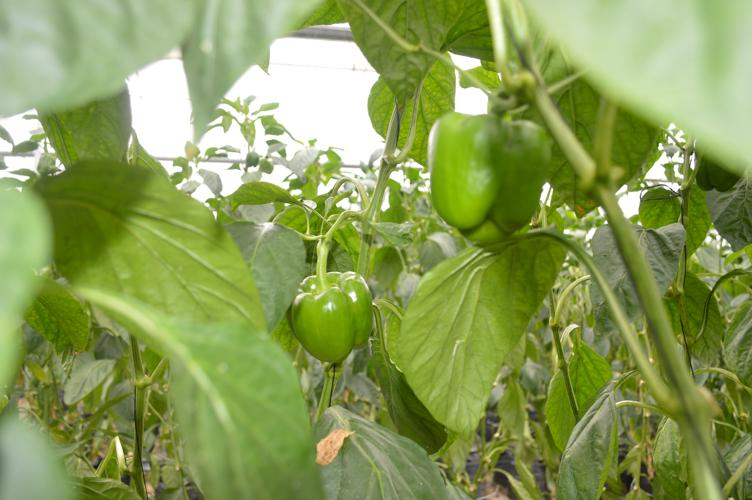BellPepper: (417, 100, 550, 243), (273, 259, 376, 373)
